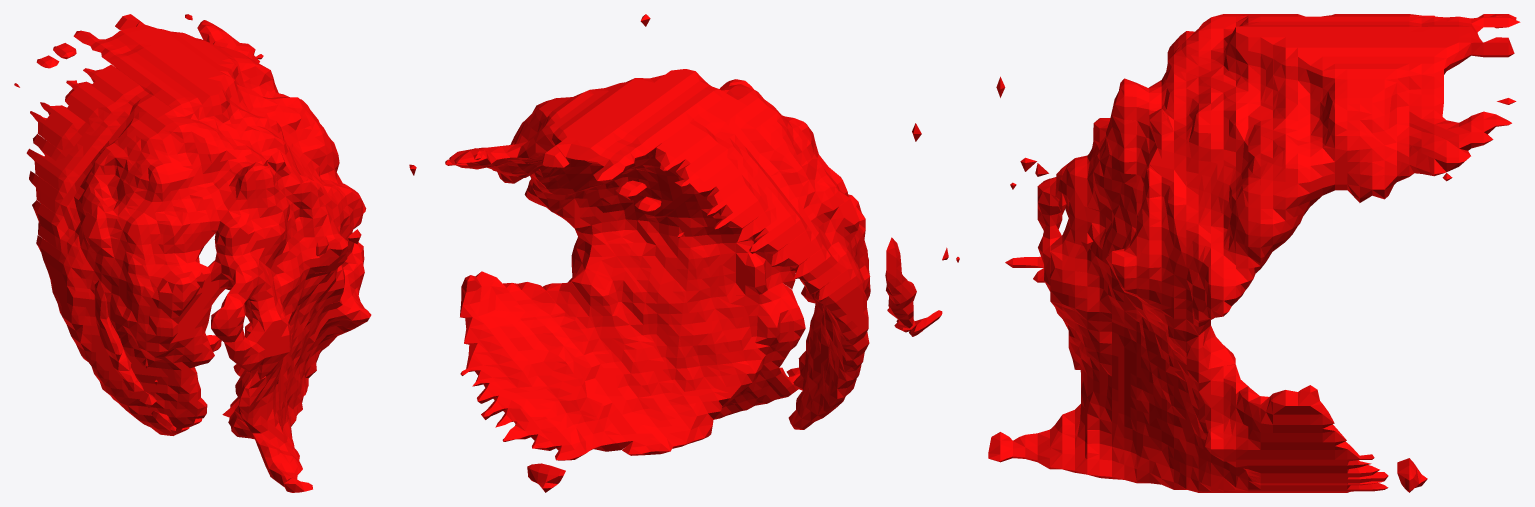
The model's file is B939XXXX-1_valve_23.obj.
3 renders of one model, left to right at view 1: azimuth 30°, elevation 25°; view 2: azimuth 150°, elevation 25°; view 3: azimuth 270°, elevation 25°, orthographic. The views are drawn at different scales.
Parts seen in each view (by area): view 1: 23_valve; view 2: 23_valve; view 3: 23_valve.
Boxes of the visible parts, x1,y1,x2,y2 form: 23_valve: (14,14,416,492); 23_valve: (445,14,959,492); 23_valve: (988,14,1520,492).
Bounding box in the file's own units: 76.97 × 76.97 × 85.95.
